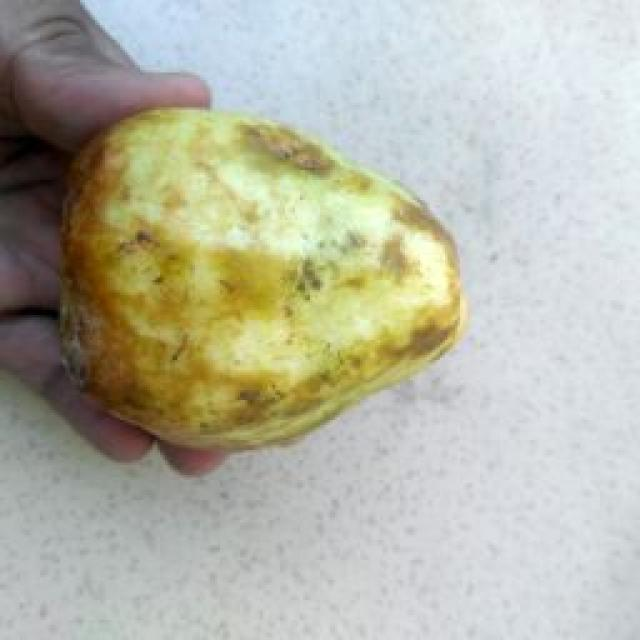Bad_Guava: (65, 109, 466, 448)
